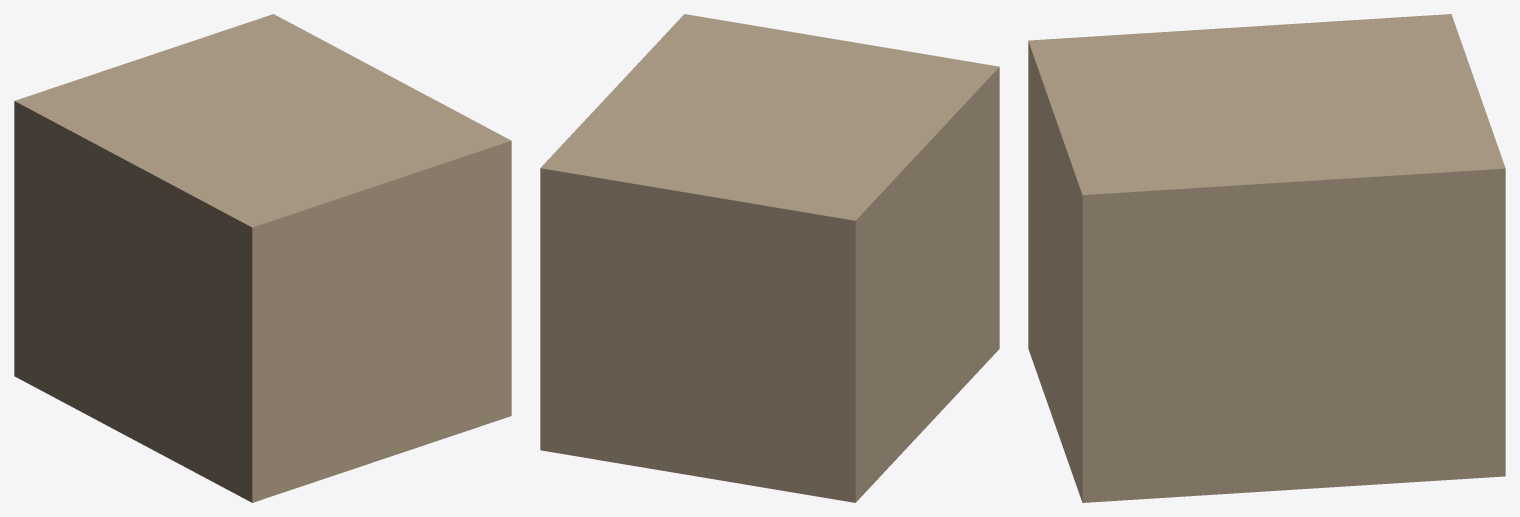
Rendered from bld_107639078.dae.
The picture shows the model from 3 angles, left to right: view 1: azimuth 30°, elevation 25°; view 2: azimuth 150°, elevation 25°; view 3: azimuth 270°, elevation 25°; orthographic projection. The views are drawn at different scales.
Visible parts, largest first — view 1: bld_107639078; view 2: bld_107639078; view 3: bld_107639078.
Boxes of the visible parts, x1=… form: bld_107639078: x1=14, y1=14, x2=511, y2=502; bld_107639078: x1=540, y1=14, x2=999, y2=502; bld_107639078: x1=1028, y1=14, x2=1505, y2=502.
Bounding box in the file's own units: 10.1 × 11.25 × 8.
